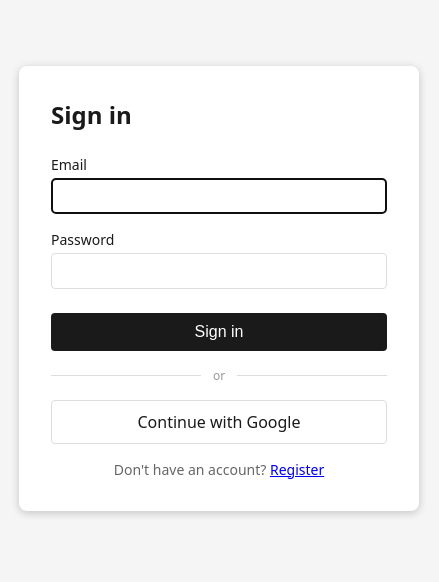
Test case: LoginPage › shows a resend-confirmation affordance on a 403 not-confirmed response
Type "a@b.com" into the field labelled "Email" at (219, 196), box [51, 178, 387, 214]
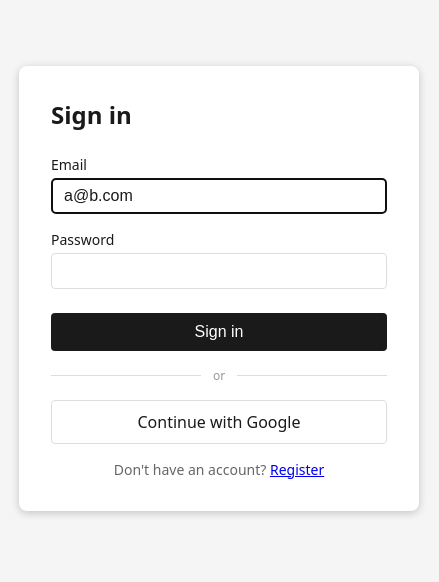
Type "secret" into the password field labelled "Password" at (219, 270), box [51, 252, 387, 288]
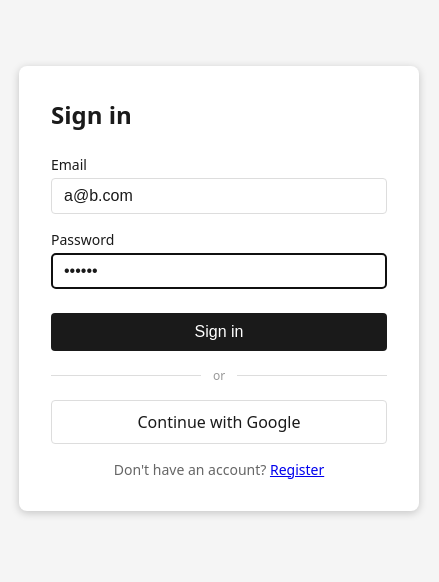
Click the button "Sign in" at (219, 332), box [51, 312, 387, 350]
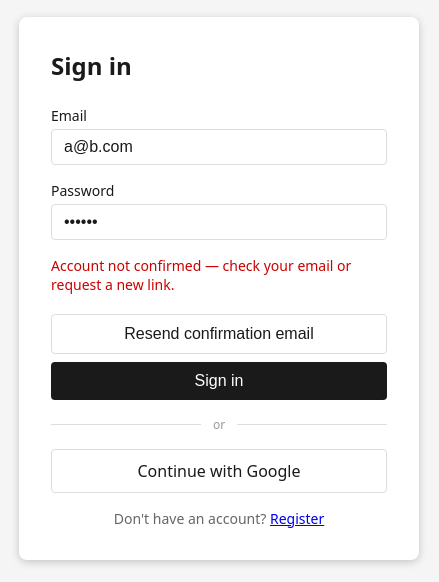
Result: the text "Account not confirmed" is shown at [51, 256, 351, 294]
Result: the button "Resend confirmation email" is shown at [51, 314, 387, 354]
